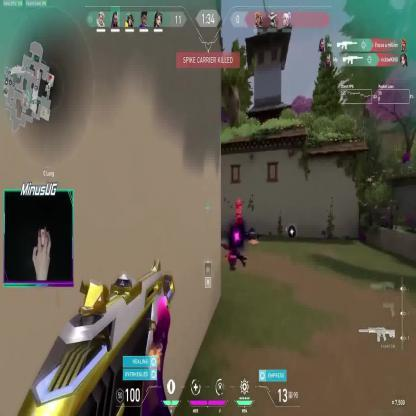enemy: (234, 198, 244, 235)
enemy_head: (236, 198, 241, 207)
